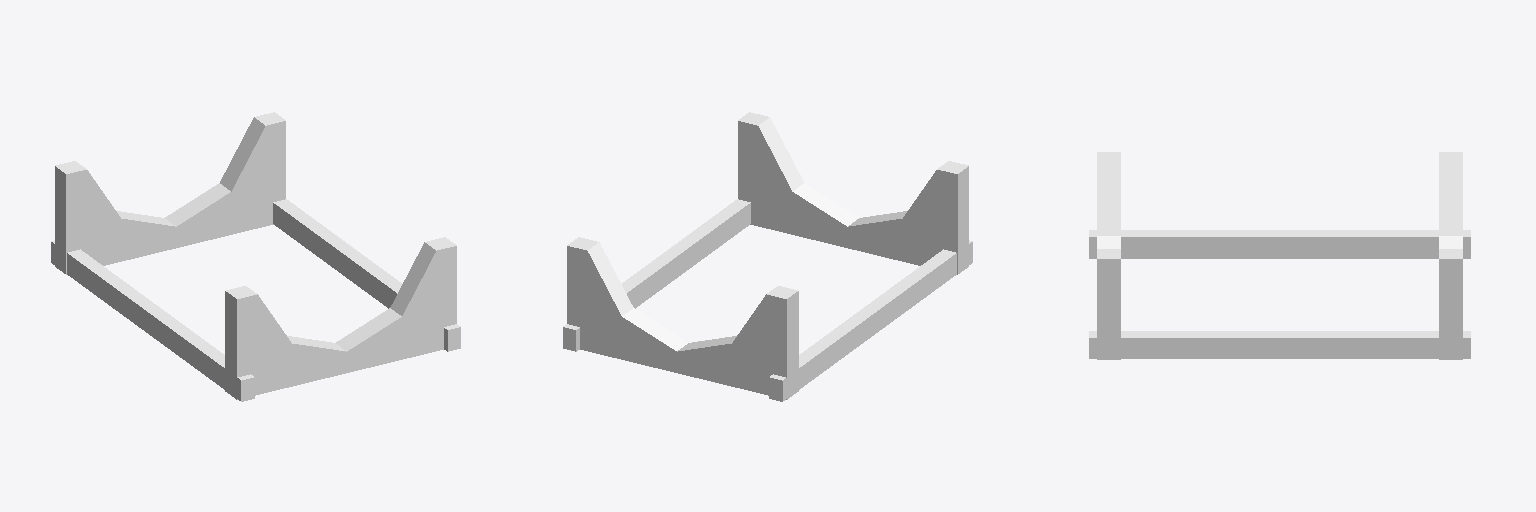
File: tall_round_barrel_stand.obj
3 renders of one model, left to right at view 1: azimuth 30°, elevation 25°; view 2: azimuth 150°, elevation 25°; view 3: azimuth 270°, elevation 25°, orthographic.
Parts seen in each view (by area): view 1: stand2, stand1, cube, cube.000; view 2: stand1, stand2, cube, cube.000; view 3: cube.000, cube, stand1, stand2.
Part boxes in pixels (x1,y1,x2,y2): stand2: (225,237,456,399); stand1: (55,112,285,274); cube: (51,240,254,401); cube.000: (273,199,460,351); stand1: (567,237,798,399); stand2: (738,112,968,274); cube: (769,240,972,401); cube.000: (563,199,750,351); cube.000: (1089,331,1470,358); cube: (1089,230,1470,258); stand1: (1439,152,1462,359); stand2: (1097,152,1120,359).
Size of the model in its own units: 1 by 0.4375 by 1.5.